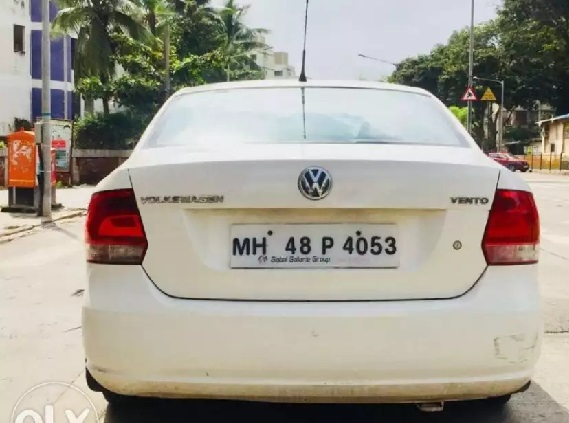licenseplate: (227, 220, 403, 269)
